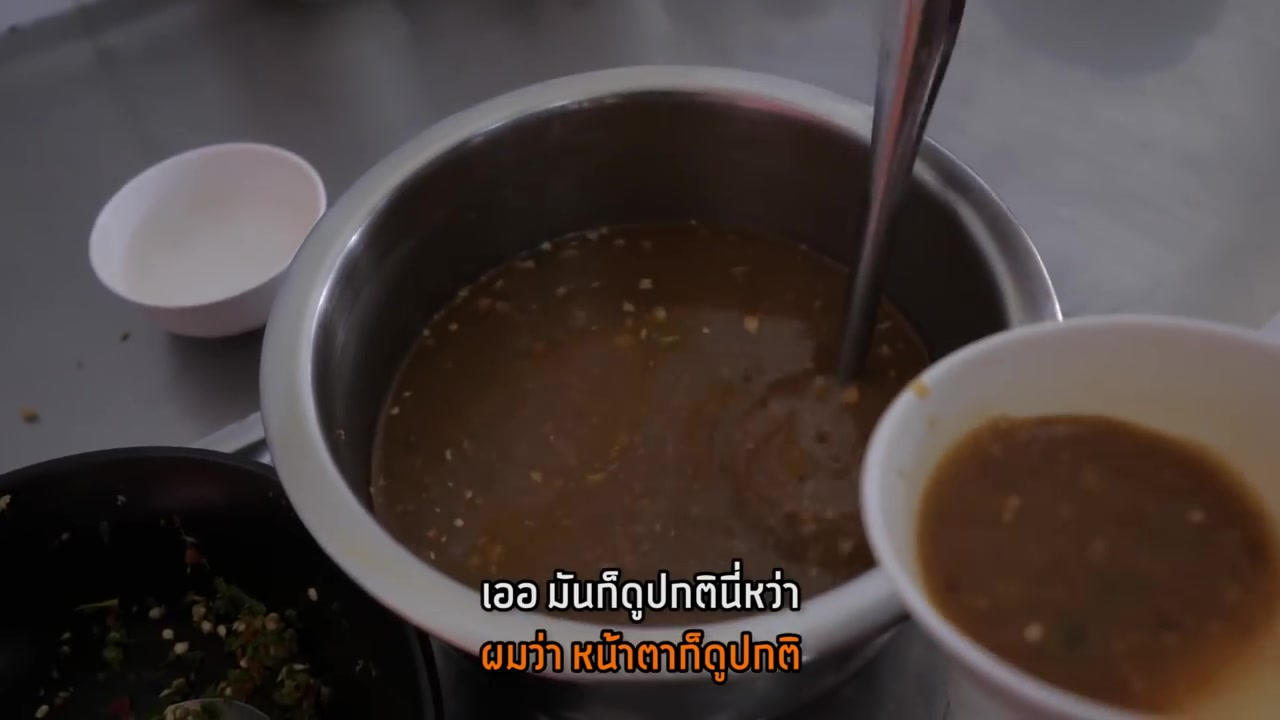text-label: (475, 555, 806, 622), (472, 624, 802, 685)
